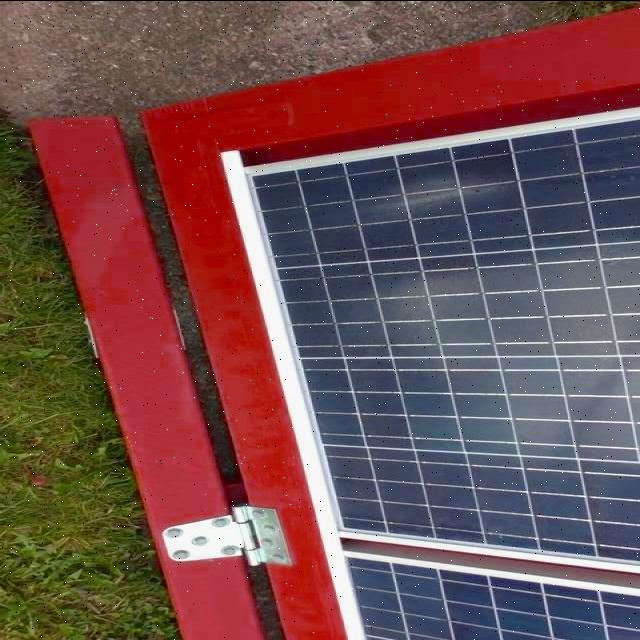Normal Solar Panel: (222, 108, 640, 640)
